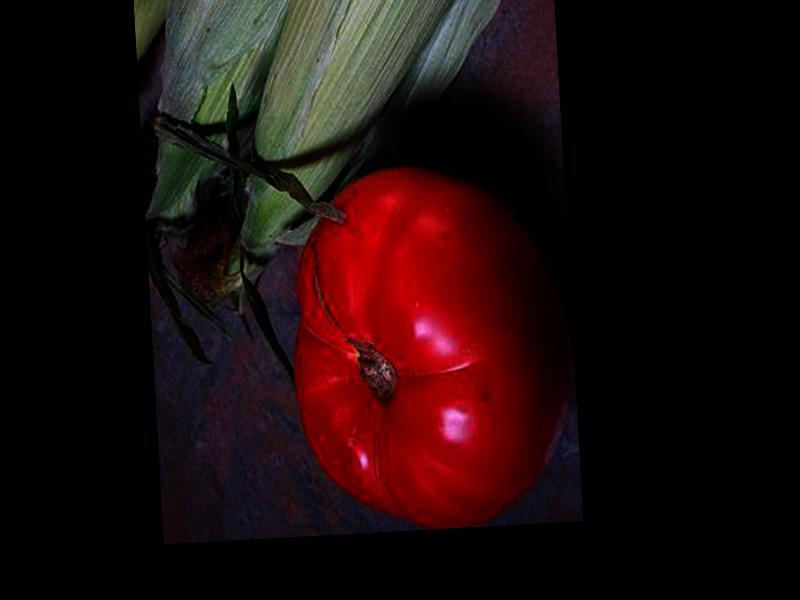Tomato: (282, 158, 579, 533)
